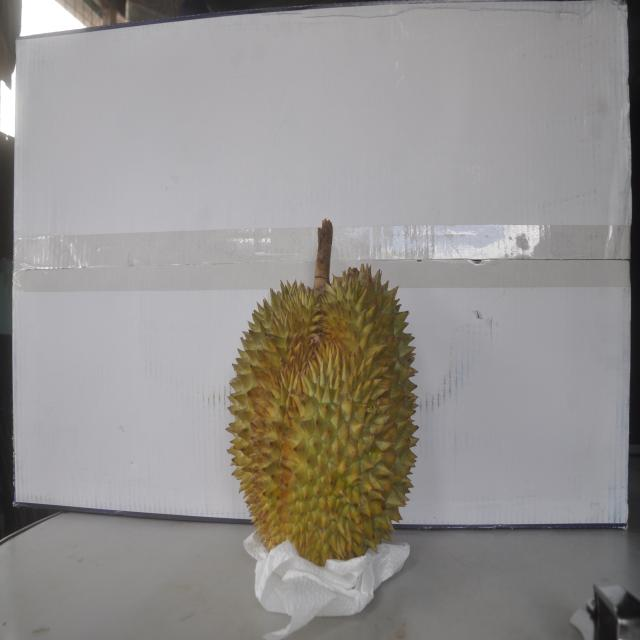mature: (224, 227, 417, 565)
